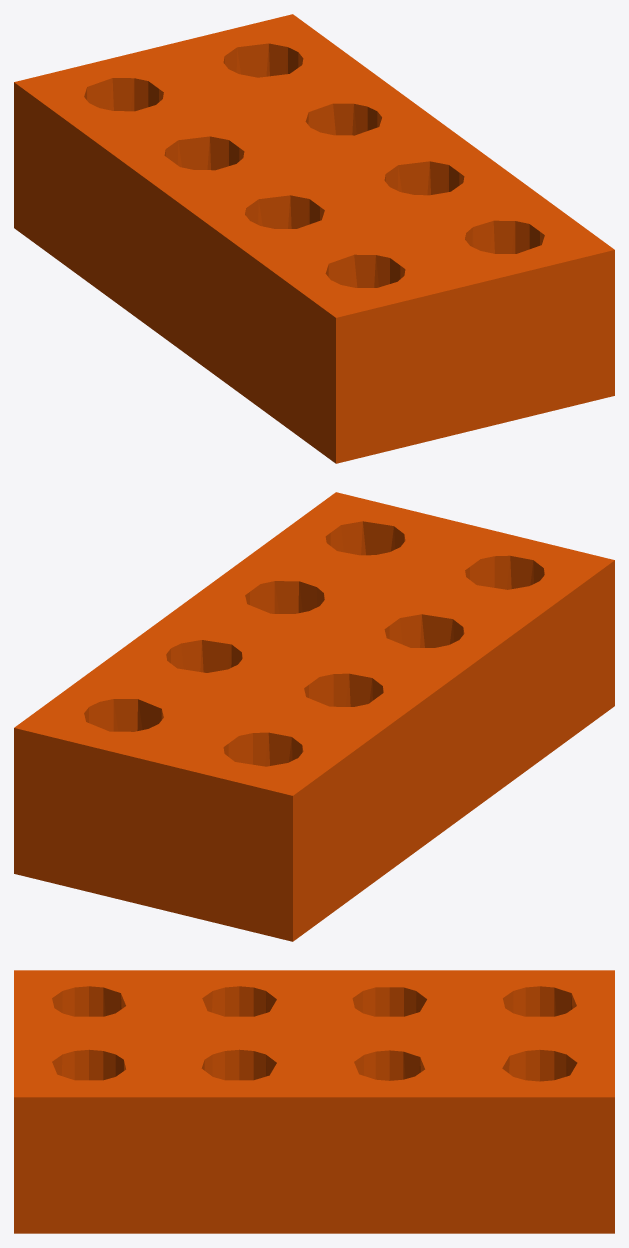
File: Brick.dae
3 renders of one model, top to bottom at view 1: azimuth 30°, elevation 25°; view 2: azimuth 150°, elevation 25°; view 3: azimuth 270°, elevation 25°, orthographic. The views are drawn at different scales.
Parts seen in each view (by area): view 1: HalfSizedRedGreenBrick; view 2: HalfSizedRedGreenBrick; view 3: HalfSizedRedGreenBrick.
Boxes of the visible parts, x1,y1,x2,y2 form: HalfSizedRedGreenBrick: (14,14,614,463); HalfSizedRedGreenBrick: (14,492,614,941); HalfSizedRedGreenBrick: (14,970,614,1233).
Size of the model in its own units: 0.0667 by 0.1334 by 0.0334.
